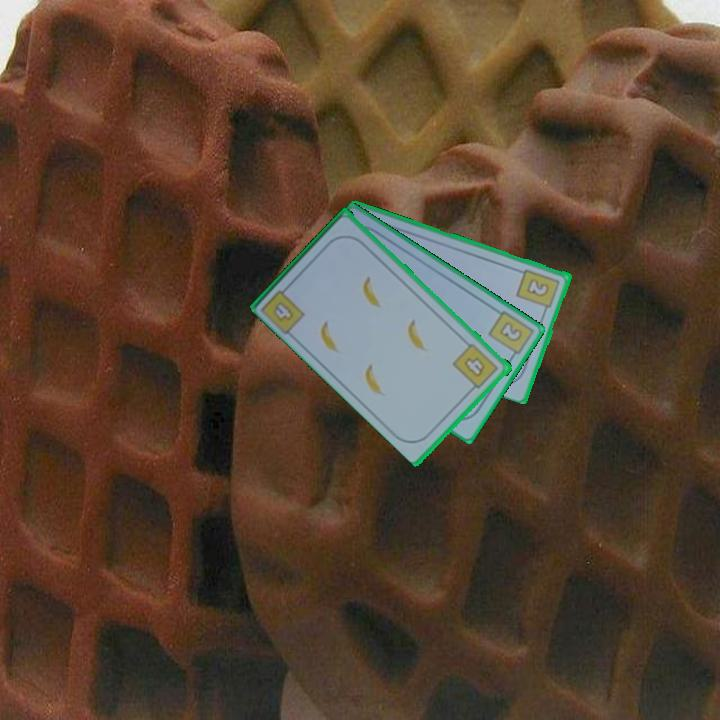2b: (485, 307, 536, 363), (514, 265, 563, 316)
4b: (258, 280, 309, 337), (449, 340, 502, 394)
